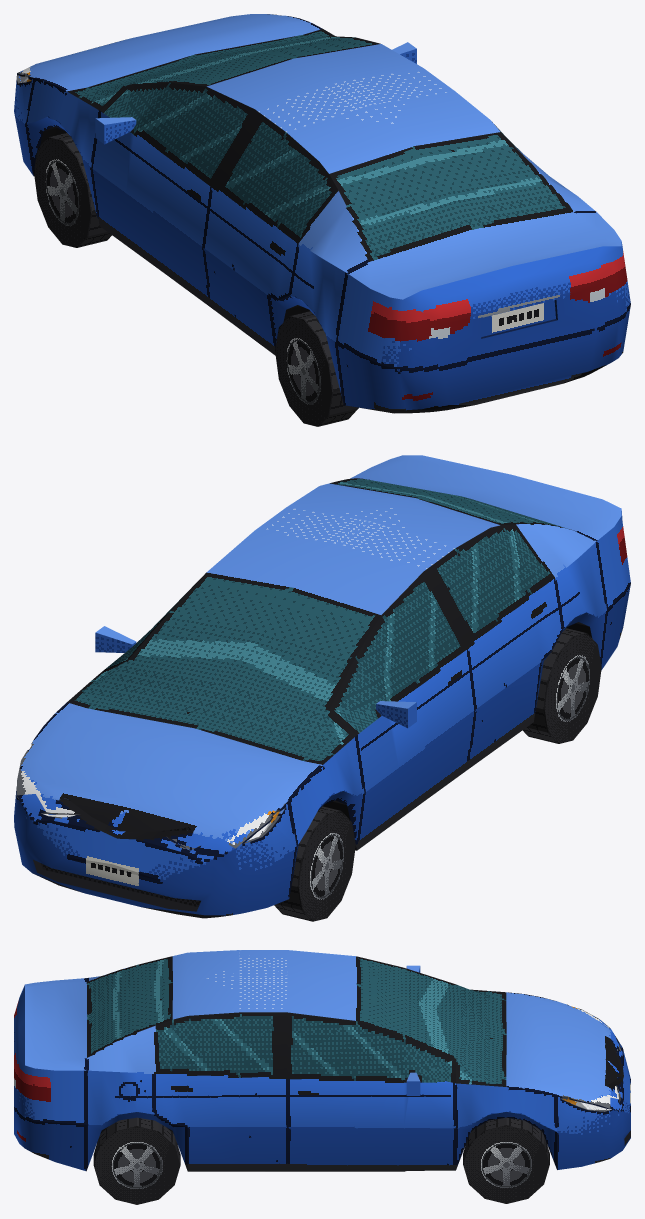
The model's file is civic_fd_2008.glb.
3 views of the same model, one above another, from view 1: azimuth 30°, elevation 25°; view 2: azimuth 150°, elevation 25°; view 3: azimuth 270°, elevation 25° (orthographic). The views are drawn at different scales.
Visible parts, largest first — view 1: tailgate, body, door_FL, door_RL, bumper_R, hood, wheel_RL, wheel_FL, fender_FL, bumper_F, mirror_L; view 2: body, hood, door_FL, bumper_F, door_RL, tailgate, wheel_RL, wheel_FL, fender_FL, bumper_R, mirror_L, mirror_R; view 3: body, door_FR, door_RR, tailgate, hood, wheel_RR, wheel_FR, bumper_F, fender_FR, bumper_R.
Part boxes in pixels (<box>): tailgate: <box>329,132,630,369</box>; body: <box>34,29,596,402</box>; door_FL: <box>91,82,254,307</box>; door_RL: <box>203,109,337,355</box>; bumper_R: <box>336,305,630,413</box>; hood: <box>17,14,322,91</box>; wheel_RL: <box>275,311,358,426</box>; wheel_FL: <box>34,133,111,247</box>; fender_FL: <box>26,78,99,224</box>; bumper_F: <box>14,73,34,175</box>; mirror_L: <box>95,117,136,144</box>; body: <box>67,483,607,850</box>; hood: <box>17,702,322,879</box>; door_FL: <box>329,572,475,850</box>; bumper_F: <box>14,791,296,918</box>; door_RL: <box>423,524,563,769</box>; tailgate: <box>330,455,630,609</box>; wheel_RL: <box>523,628,601,743</box>; wheel_FL: <box>274,806,355,921</box>; fender_FL: <box>288,736,364,893</box>; bumper_R: <box>601,584,630,670</box>; mirror_L: <box>376,701,416,728</box>; mirror_R: <box>95,626,136,652</box>; body: <box>86,950,542,1170</box>; door_FR: <box>287,1012,455,1170</box>; door_RR: <box>155,1012,287,1171</box>; tailgate: <box>14,956,172,1124</box>; hood: <box>506,992,622,1111</box>; wheel_RR: <box>93,1117,180,1204</box>; wheel_FR: <box>463,1117,549,1203</box>; bumper_F: <box>557,1039,630,1169</box>; fender_FR: <box>456,1083,556,1169</box>; bumper_R: <box>14,1107,86,1171</box>.
Size of the model in its own units: 2 by 1.44 by 4.51.
Materials: 2 (2 with a texture image).
